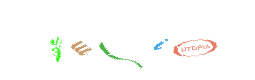3: (102, 0, 182, 80)
6: (119, 0, 199, 80)
I: (105, 0, 185, 80)
W: (87, 0, 167, 80)
Z: (46, 0, 126, 80)
